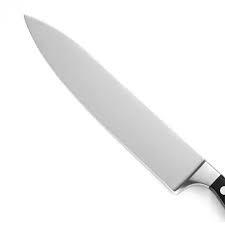Knife: (23, 12, 224, 224)
